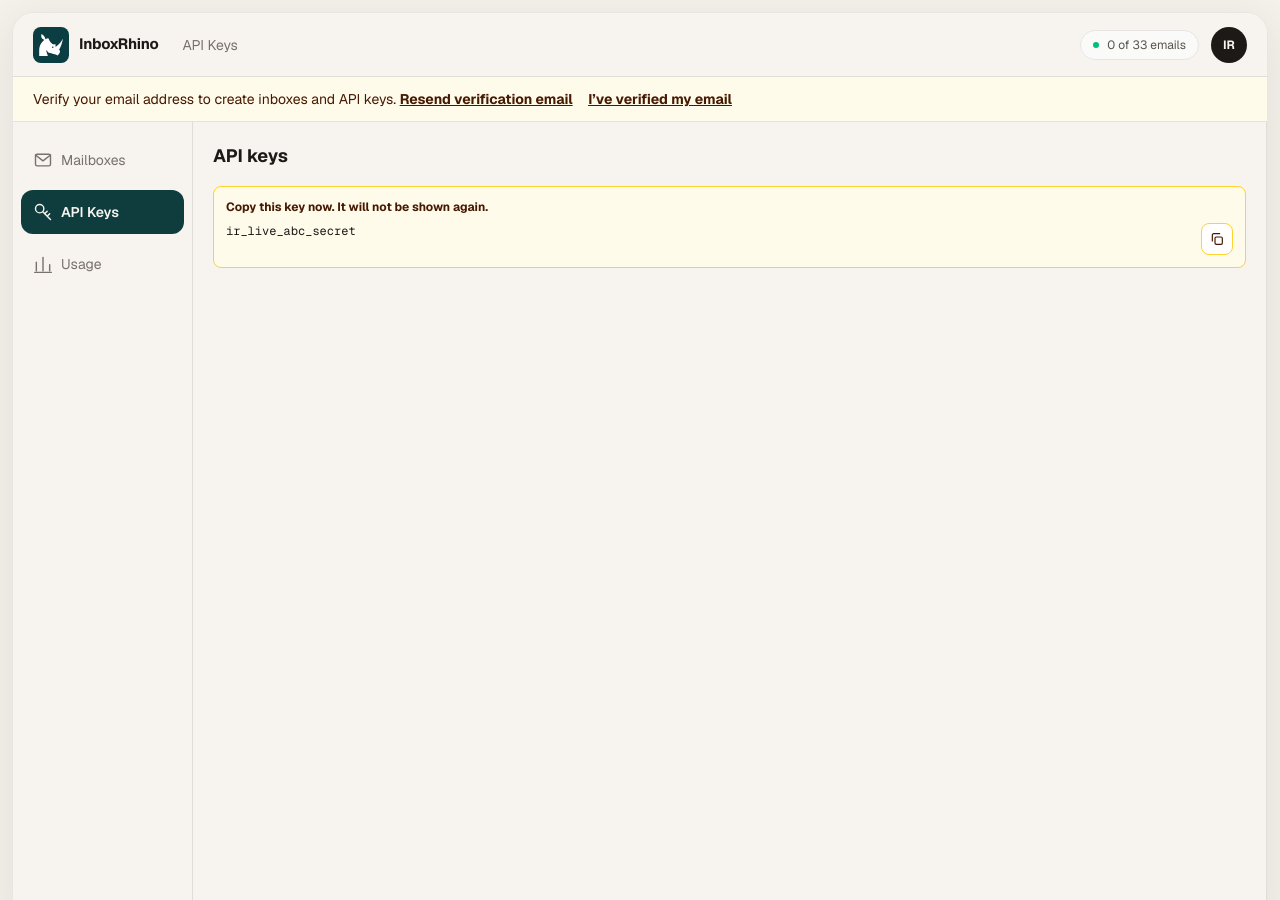
Test: console UX › copies a newly created API key with the copy button
Click the button named "Copy API key".
click(1217, 239)  # box [1201,223,1233,255]
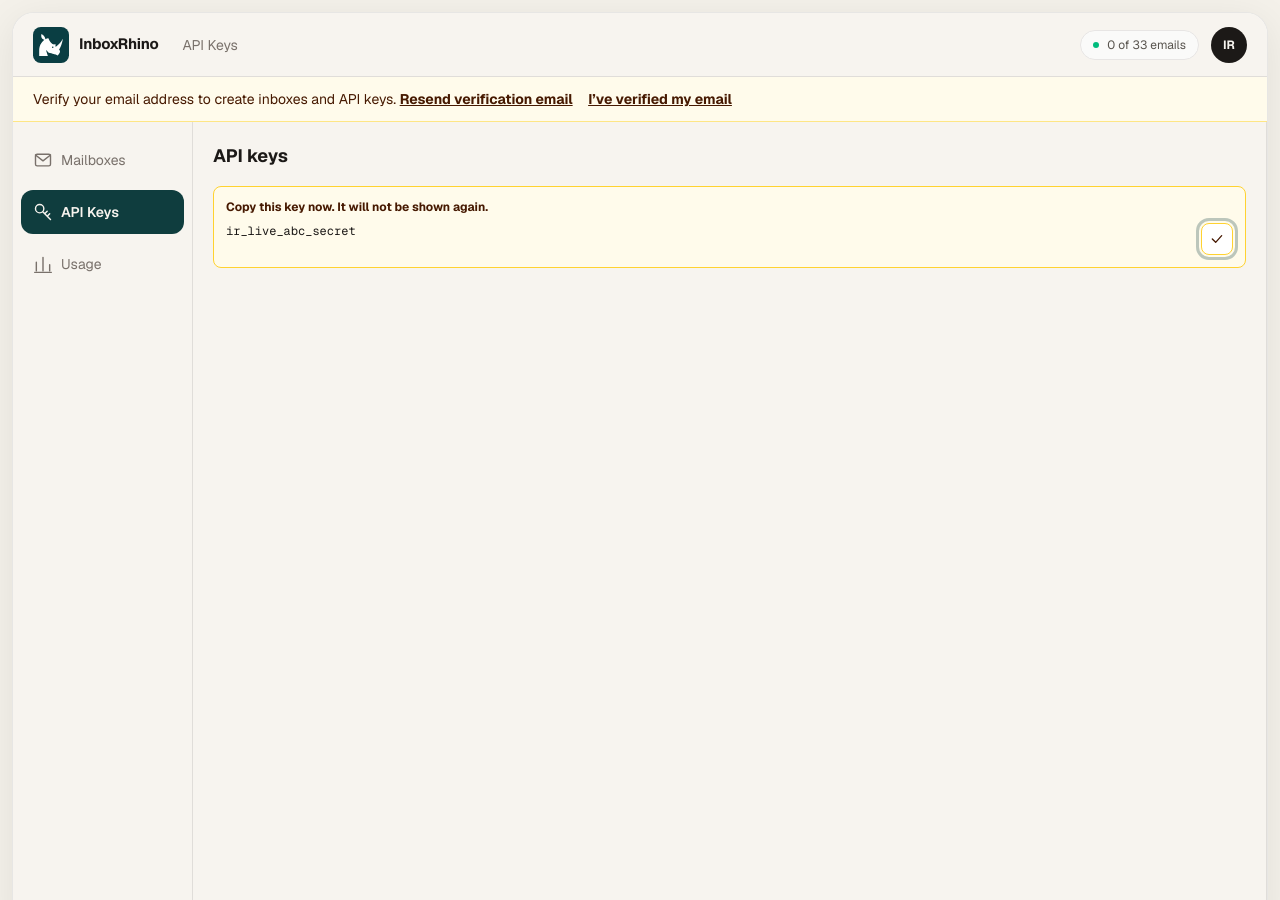
Now the button named "Copied" is shown, box [1201,223,1233,255]
